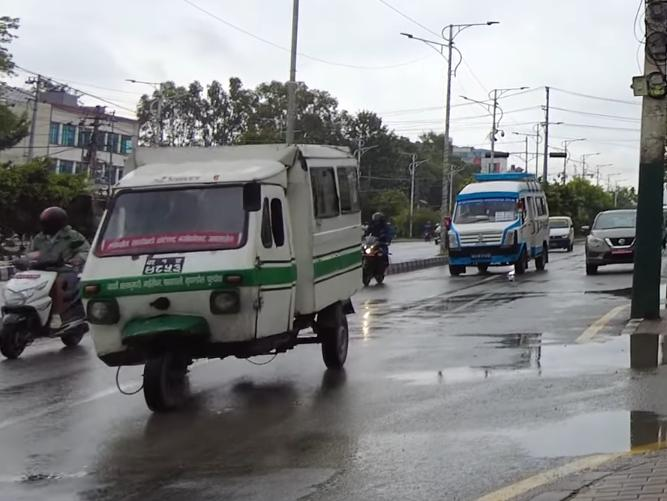bike: (364, 226, 391, 291)
car: (579, 205, 641, 275)
micro_bus: (444, 169, 551, 280)
scooter: (1, 234, 96, 364)
taxi: (550, 209, 576, 256)
tempo: (58, 136, 374, 424)
